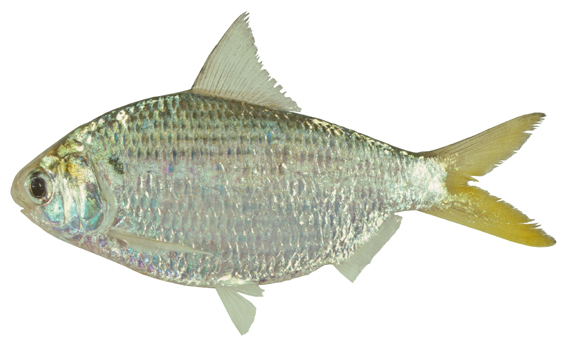fish: (10, 11, 558, 337)
